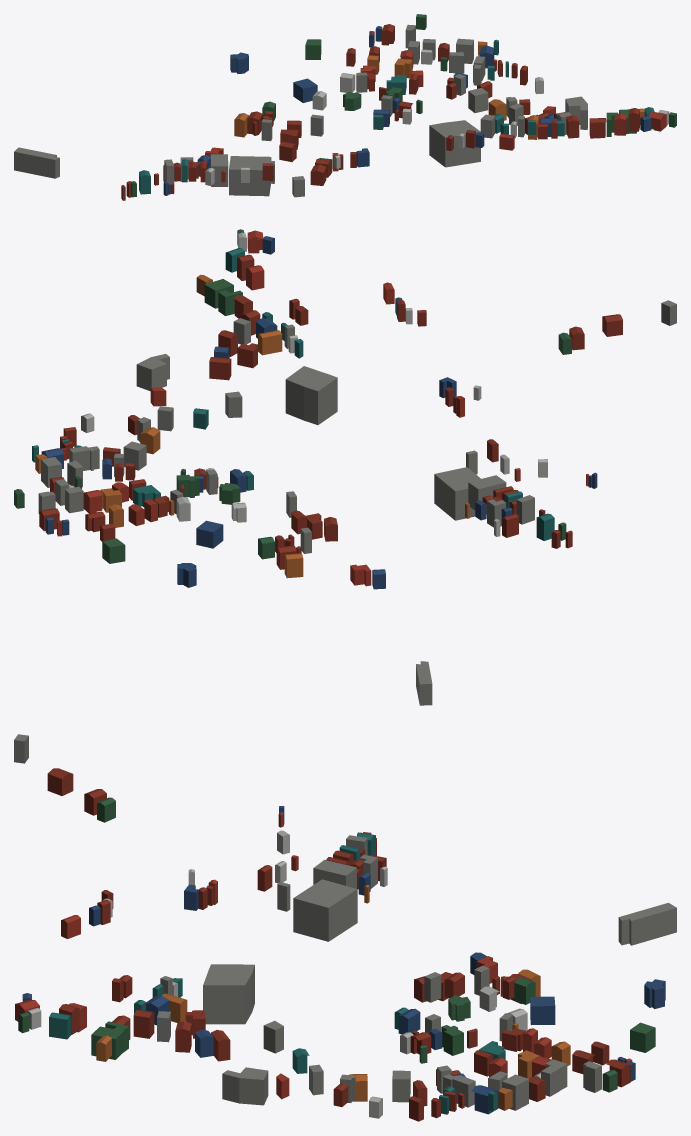
The model's file is near-16-54717-29742.fe499976.glb.
3 views of the same model, one above another, from view 1: azimuth 30°, elevation 25°; view 2: azimuth 150°, elevation 25°; view 3: azimuth 270°, elevation 25° (orthographic). The views are drawn at different scales.
Size of the model in its own units: 595 by 216 by 607.
